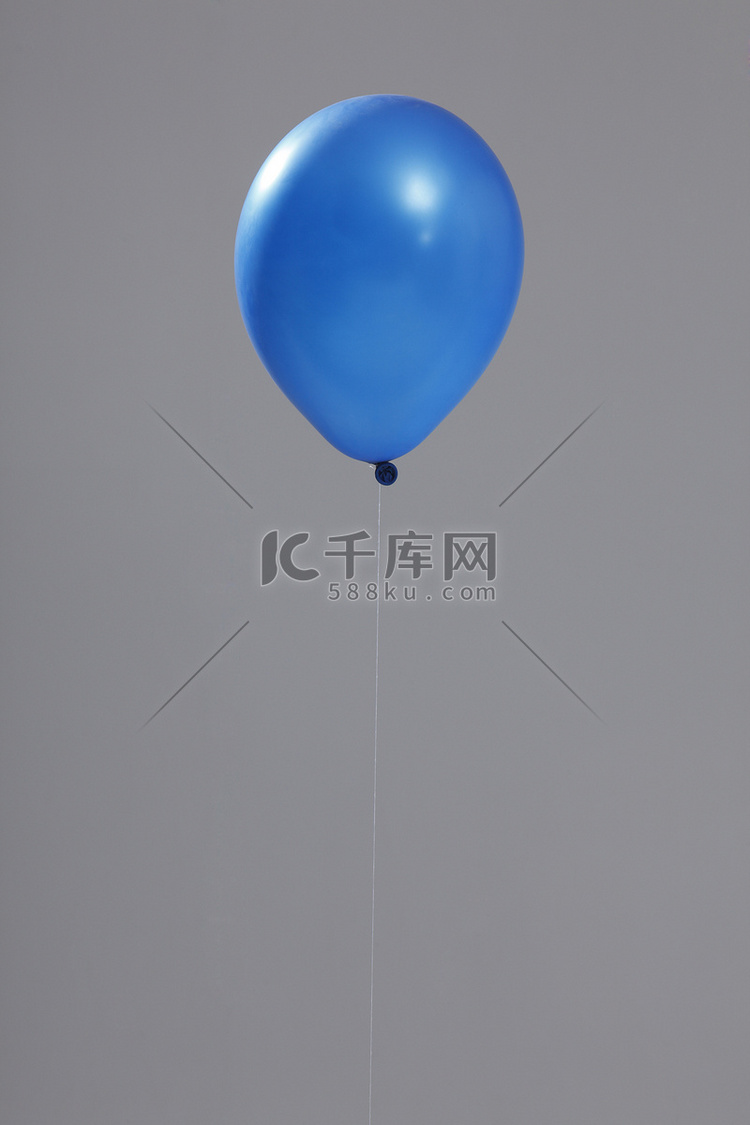balloon: (235, 95, 523, 463)
